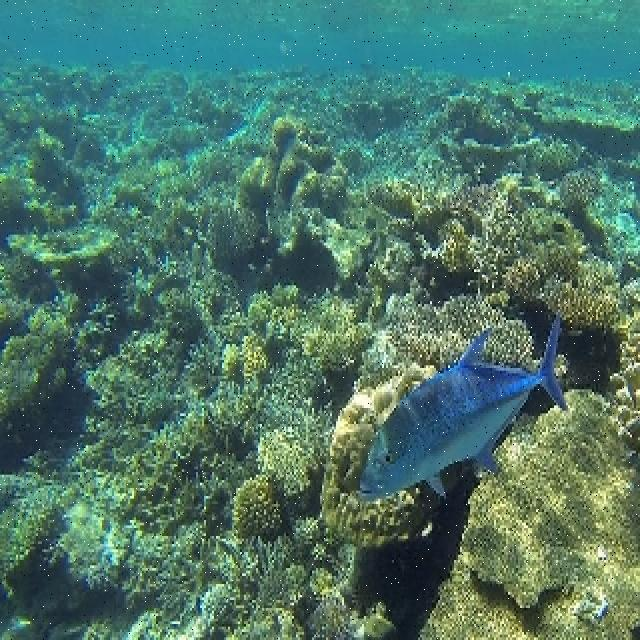fish: (358, 313, 571, 503)
